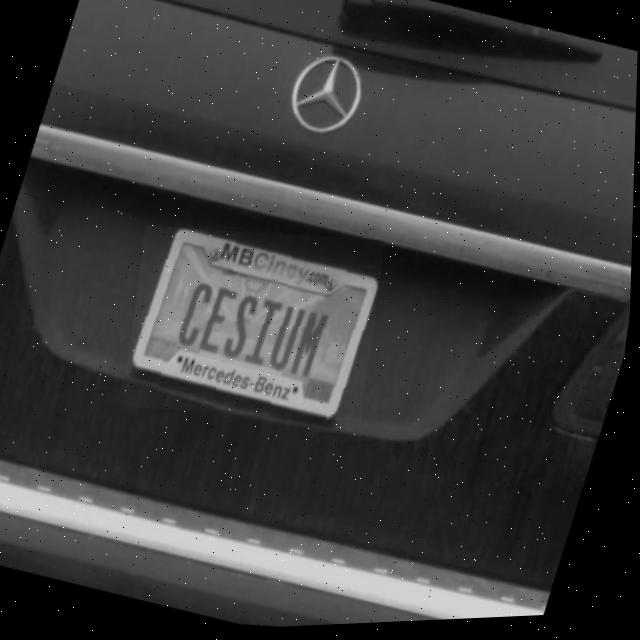LicensePlate: (129, 230, 381, 422)
